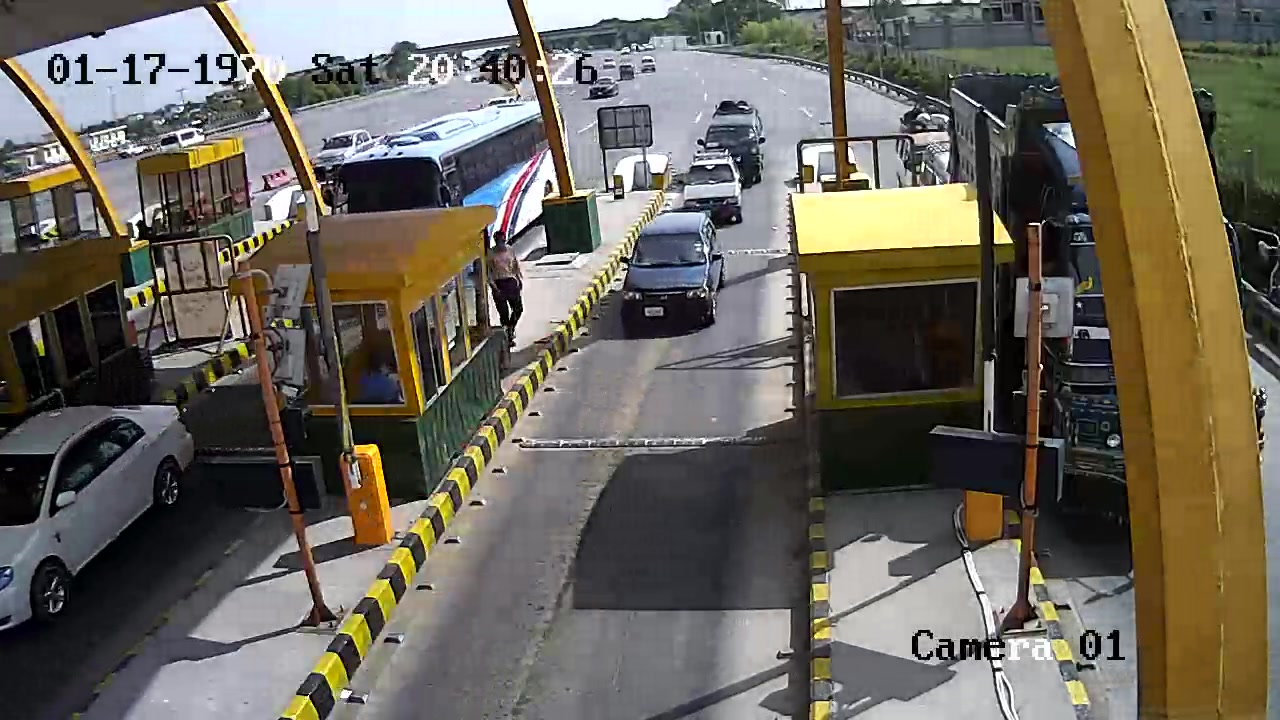F1: (610, 208, 732, 348)
